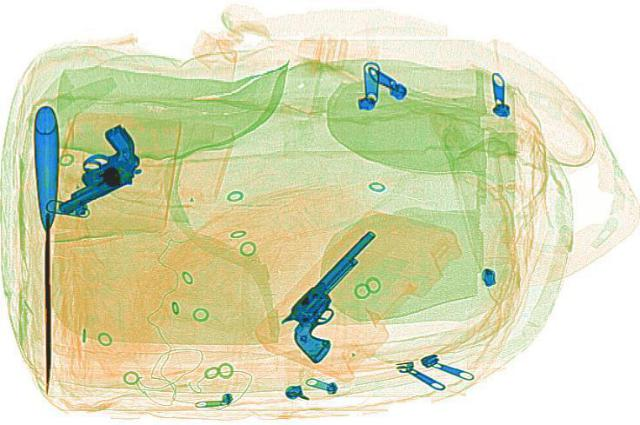Gun: (250, 227, 432, 362), (14, 122, 170, 213)
Knife: (31, 104, 65, 393)
